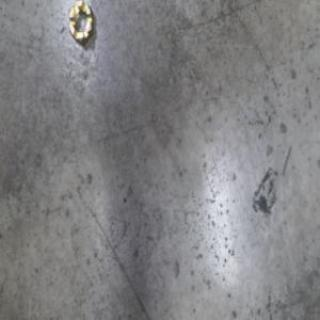Nuttrack_idkeyframe: (66, 1, 95, 46)
